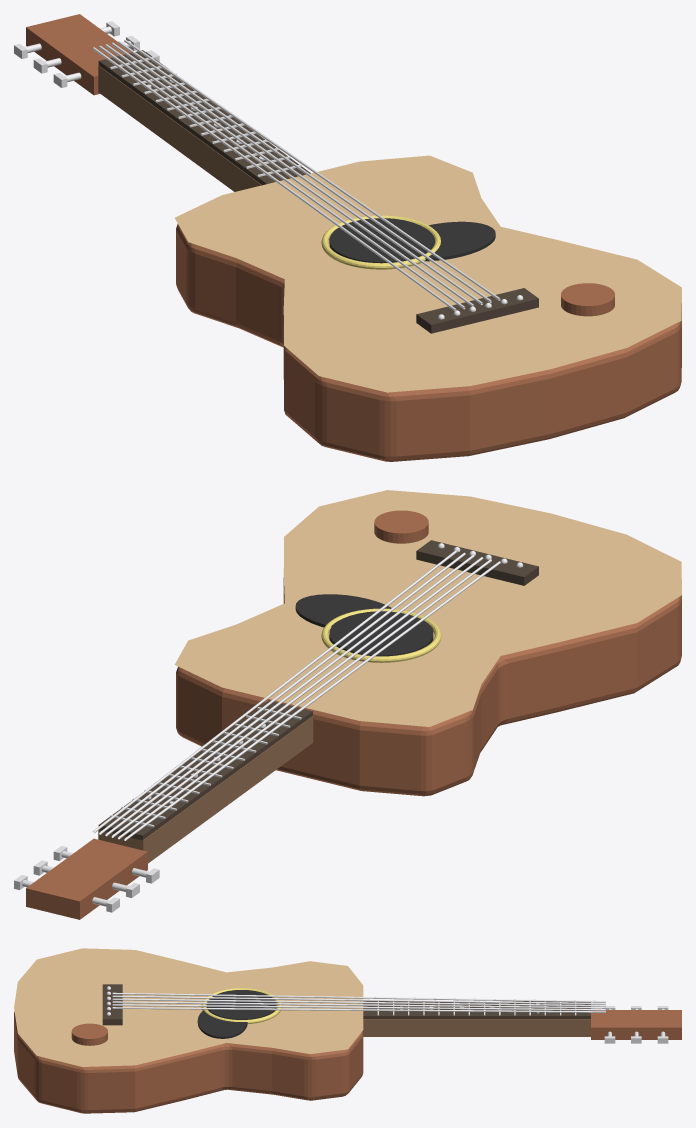
The model's file is acoustic_guitar.glb.
3 views of the same model, one above another, from view 1: azimuth 30°, elevation 25°; view 2: azimuth 150°, elevation 25°; view 3: azimuth 270°, elevation 25° (orthographic). The views are drawn at different scales.
Visible parts, largest first — view 1: Acoustic_Guitar_LEGO_Minifig, Guitar_String_5, Guitar_String_4, Guitar_String_2, Guitar_String_3, Guitar_String_1, Guitar_String_0; view 2: Acoustic_Guitar_LEGO_Minifig, Guitar_String_0, Guitar_String_1, Guitar_String_2, Guitar_String_3, Guitar_String_4, Guitar_String_5; view 3: Acoustic_Guitar_LEGO_Minifig, Guitar_String_3, Guitar_String_2, Guitar_String_4, Guitar_String_1, Guitar_String_0, Guitar_String_5.
Part boxes in pixels (x1=…): Acoustic_Guitar_LEGO_Minifig: x1=14, y1=14, x2=681, y2=461; Guitar_String_5: x1=124, y1=39, x2=500, y2=300; Guitar_String_4: x1=118, y1=41, x2=491, y2=302; Guitar_String_2: x1=105, y1=44, x2=474, y2=306; Guitar_String_3: x1=111, y1=42, x2=483, y2=304; Guitar_String_1: x1=99, y1=45, x2=465, y2=309; Guitar_String_0: x1=92, y1=47, x2=456, y2=310; Acoustic_Guitar_LEGO_Minifig: x1=14, y1=490, x2=681, y2=919; Guitar_String_0: x1=124, y1=561, x2=500, y2=840; Guitar_String_1: x1=118, y1=559, x2=491, y2=839; Guitar_String_2: x1=111, y1=557, x2=483, y2=837; Guitar_String_3: x1=105, y1=555, x2=474, y2=836; Guitar_String_4: x1=99, y1=552, x2=465, y2=834; Guitar_String_5: x1=92, y1=550, x2=456, y2=833; Acoustic_Guitar_LEGO_Minifig: x1=14, y1=948, x2=681, y2=1113; Guitar_String_3: x1=112, y1=1001, x2=605, y2=1008; Guitar_String_2: x1=112, y1=998, x2=605, y2=1006; Guitar_String_4: x1=112, y1=1004, x2=605, y2=1010; Guitar_String_1: x1=112, y1=995, x2=605, y2=1004; Guitar_String_0: x1=112, y1=992, x2=605, y2=1002; Guitar_String_5: x1=112, y1=1007, x2=605, y2=1012.
Bounding box in the file's own units: 0.37 × 0.0962 × 0.88.
